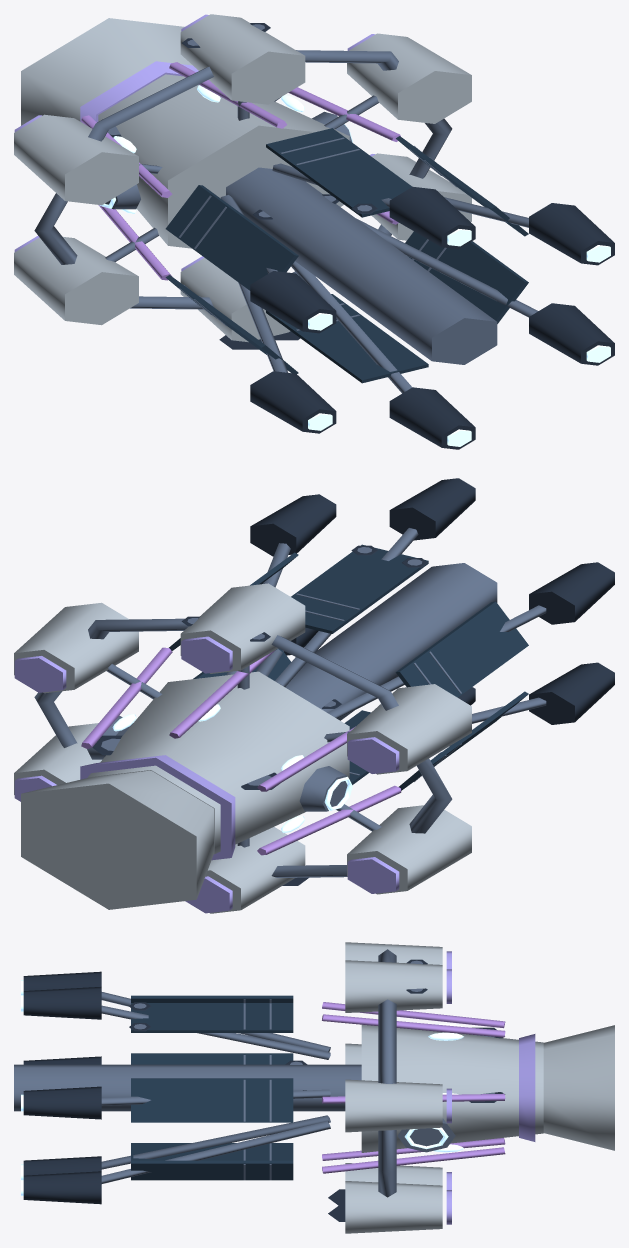
The model's file is cryogenic_hydrocarbon--science_vessel--lod1.glb.
3 views of the same model, one above another, from view 1: azimuth 30°, elevation 25°; view 2: azimuth 150°, elevation 25°; view 3: azimuth 270°, elevation 25° (orthographic). The views are drawn at different scales.
Visible parts, largest first — view 1: thermal_isolation_spine_1, cold_habitat_lantern_2, forward_ice_cap_3, cold_laboratory_lantern_73, cold_laboratory_lantern_58, cold_laboratory_lantern_70, cold_laboratory_lantern_61, heat_rejection_fin_49, sixfold_science_frame_57, heat_rejection_fin_9, heat_rejection_fin_33, heat_rejection_fin_25 (+19 smaller); view 2: forward_ice_cap_3, cold_habitat_lantern_2, thermal_isolation_spine_1, sixfold_science_frame_57, cold_laboratory_lantern_73, cold_laboratory_lantern_58, heat_rejection_fin_49, cold_laboratory_lantern_70, cold_laboratory_lantern_61, heat_rejection_fin_9, cold_laboratory_lantern_67, isolated_hot_drive_7 (+19 smaller); view 3: cold_habitat_lantern_2, thermal_isolation_spine_1, forward_ice_cap_3, heat_rejection_fin_17, cold_laboratory_lantern_61, cold_laboratory_lantern_64, cold_laboratory_lantern_58, heat_rejection_fin_9, heat_rejection_fin_25, sixfold_science_frame_57, isolated_hot_drive_15, isolated_hot_drive_23 (+21 smaller).
Part boxes in pixels (x1,y1,x2,y2): thermal_isolation_spine_1: (226, 167, 497, 364); cold_habitat_lantern_2: (98, 74, 349, 248); forward_ice_cap_3: (21, 18, 192, 125); cold_laboratory_lantern_73: (14, 114, 138, 205); cold_laboratory_lantern_58: (180, 14, 305, 104); cold_laboratory_lantern_70: (14, 237, 138, 325); cold_laboratory_lantern_61: (347, 33, 471, 123); heat_rejection_fin_49: (165, 185, 298, 290); sixfold_science_frame_57: (34, 50, 452, 309); heat_rejection_fin_9: (266, 128, 412, 217); heat_rejection_fin_33: (266, 294, 428, 383); heat_rejection_fin_25: (405, 231, 528, 323); forward_ice_cap_3: (21, 770, 213, 909); cold_habitat_lantern_2: (87, 671, 349, 854); thermal_isolation_spine_1: (285, 563, 497, 720); sixfold_science_frame_57: (34, 618, 452, 877); cold_laboratory_lantern_73: (347, 684, 471, 774); cold_laboratory_lantern_58: (180, 583, 305, 673); heat_rejection_fin_49: (395, 601, 528, 697); cold_laboratory_lantern_70: (347, 805, 471, 894); cold_laboratory_lantern_61: (14, 602, 138, 693); heat_rejection_fin_9: (291, 544, 428, 633); cold_laboratory_lantern_67: (205, 827, 305, 913); isolated_hot_drive_7: (389, 478, 475, 540); cold_habitat_lantern_2: (361, 1024, 543, 1152); thermal_isolation_spine_1: (14, 1064, 361, 1111); forward_ice_cap_3: (543, 1025, 614, 1150); heat_rejection_fin_17: (131, 1078, 293, 1122); cold_laboratory_lantern_61: (345, 1079, 442, 1132); cold_laboratory_lantern_64: (345, 1181, 442, 1233); cold_laboratory_lantern_58: (345, 960, 442, 1012); heat_rejection_fin_9: (131, 1003, 293, 1032); heat_rejection_fin_25: (131, 1160, 293, 1180); sixfold_science_frame_57: (378, 949, 396, 1197); isolated_hot_drive_15: (23, 1086, 101, 1119); isolated_hot_drive_23: (23, 1171, 101, 1204).
Size of the model in its own units: 224 by 150 by 330.
